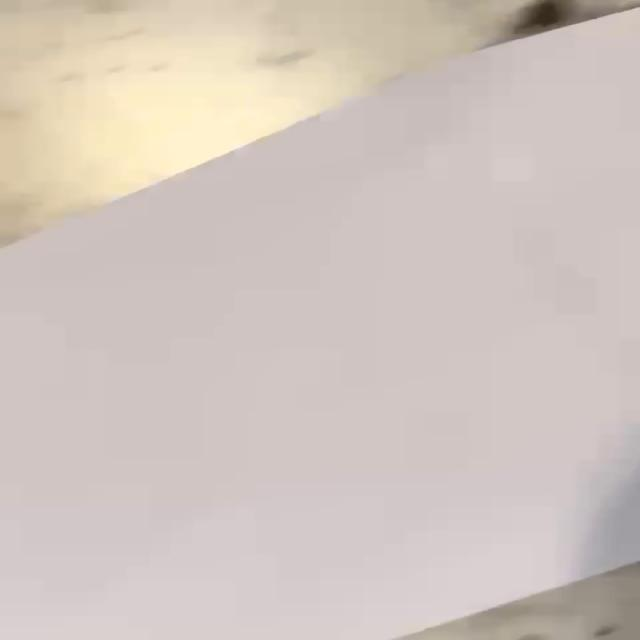road: (0, 8, 640, 640)
